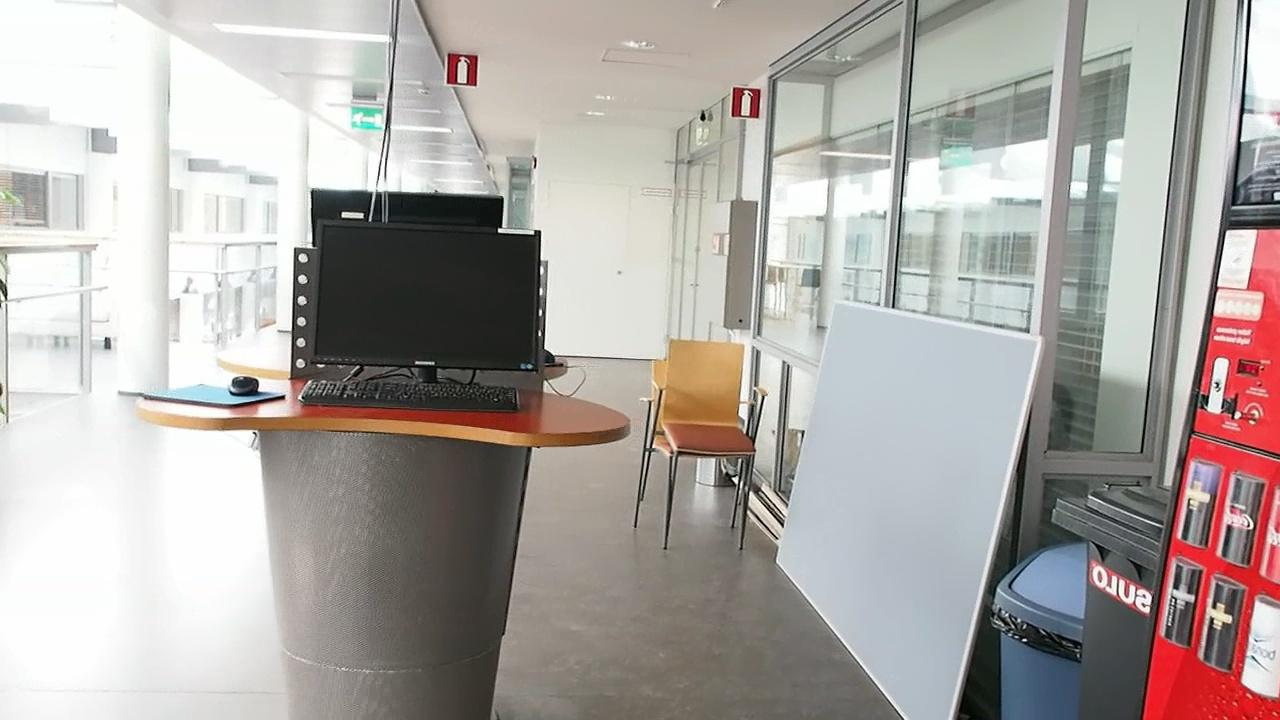chair: (649, 337, 760, 552)
screen: (309, 223, 543, 369)
